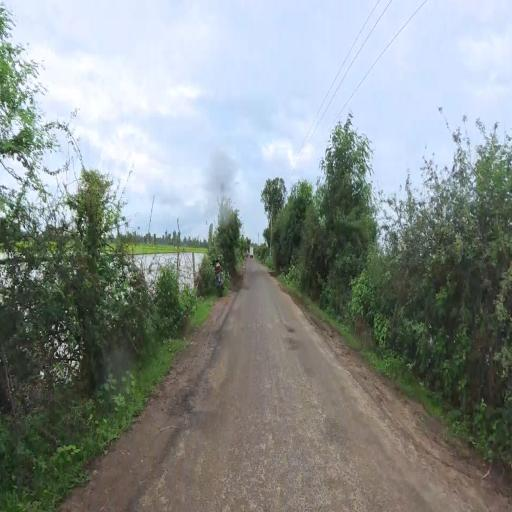edge_damage: (167, 346, 222, 440)
